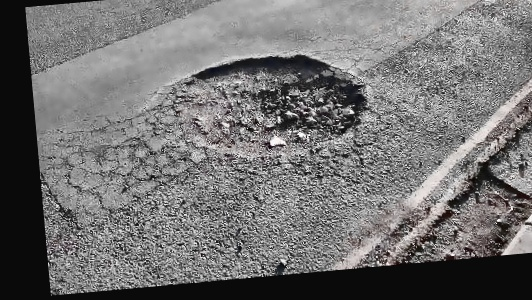pothole: (144, 44, 378, 164), (378, 160, 532, 265)
